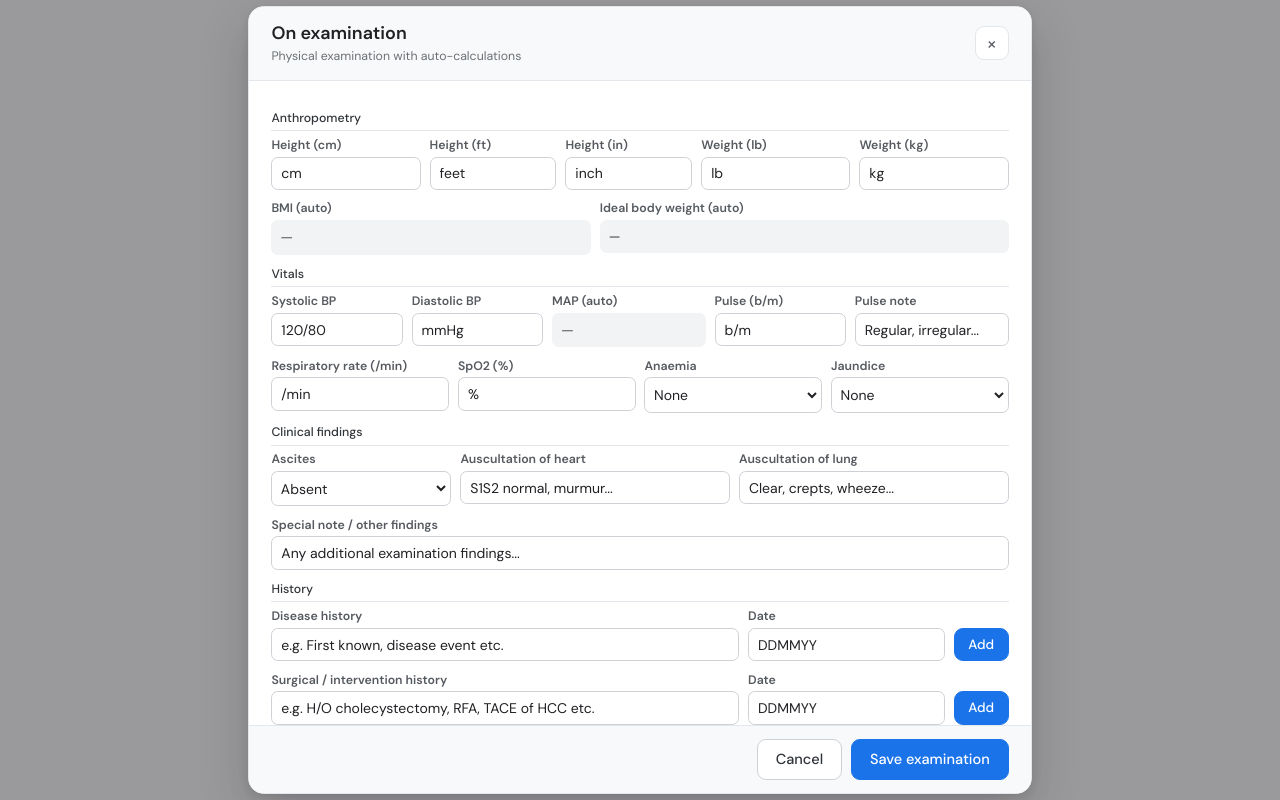
it: On examination — dated history entries › a date it cannot read writes nothing and says why
Type "H/O ERCP" into the field named "Disease history" at [505, 645], box [271,628,739,661]
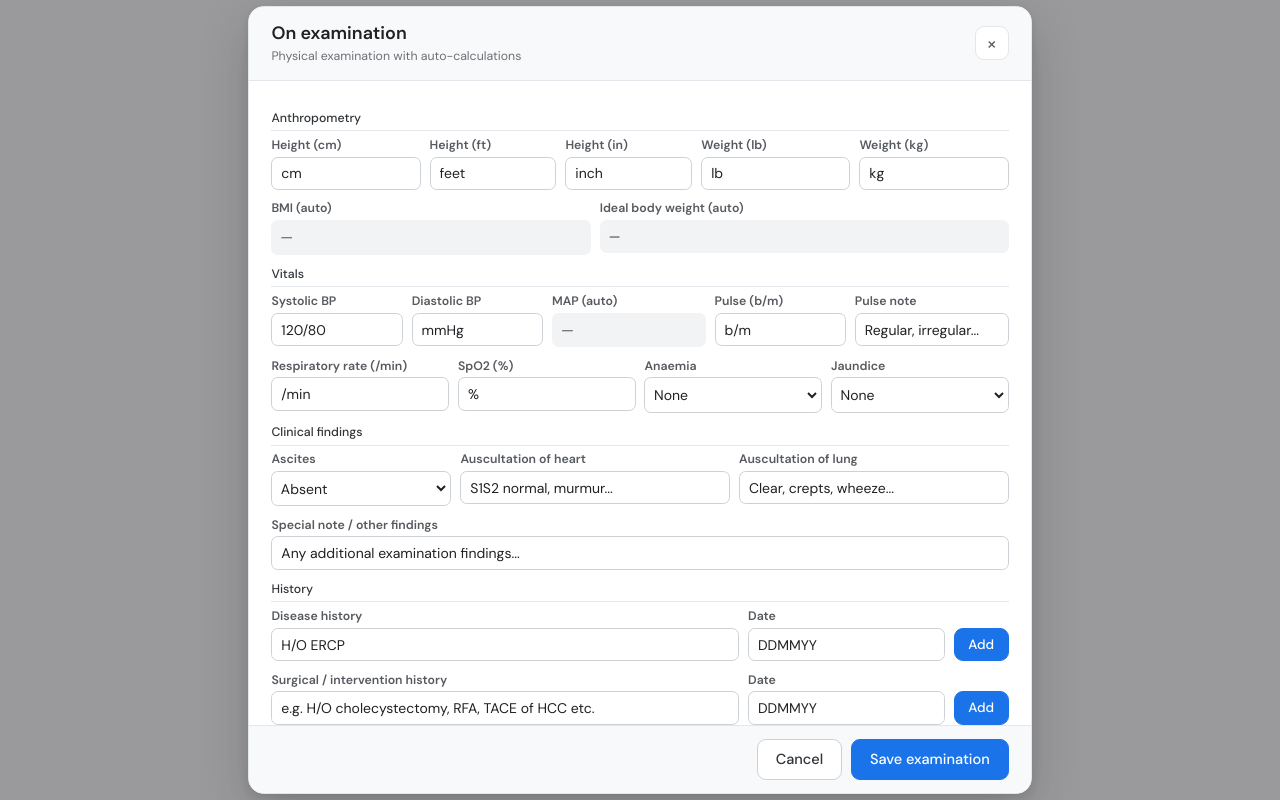
Type "99" into the field named "Disease history date" at [846, 645], box [748,628,945,661]
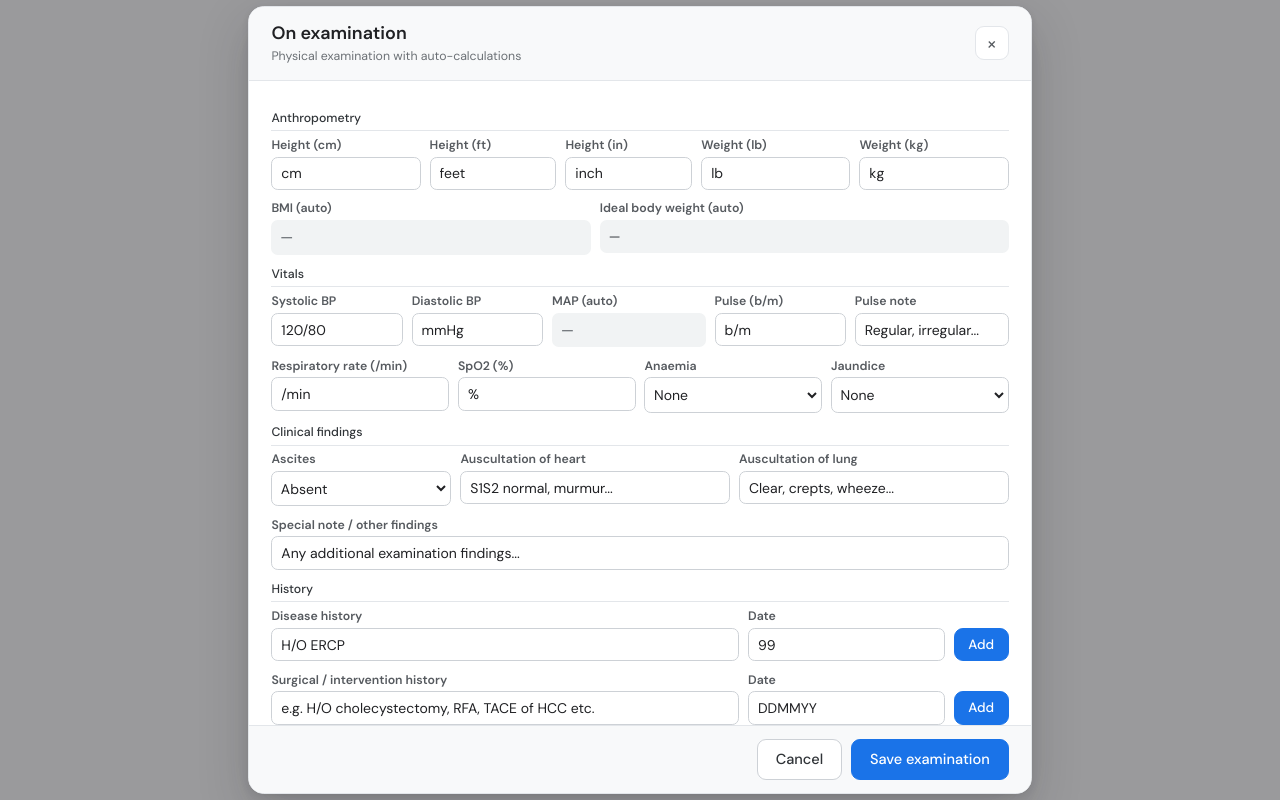
Click the button with aria-label "Add disease history" at [981, 645], box [954,628,1009,661]
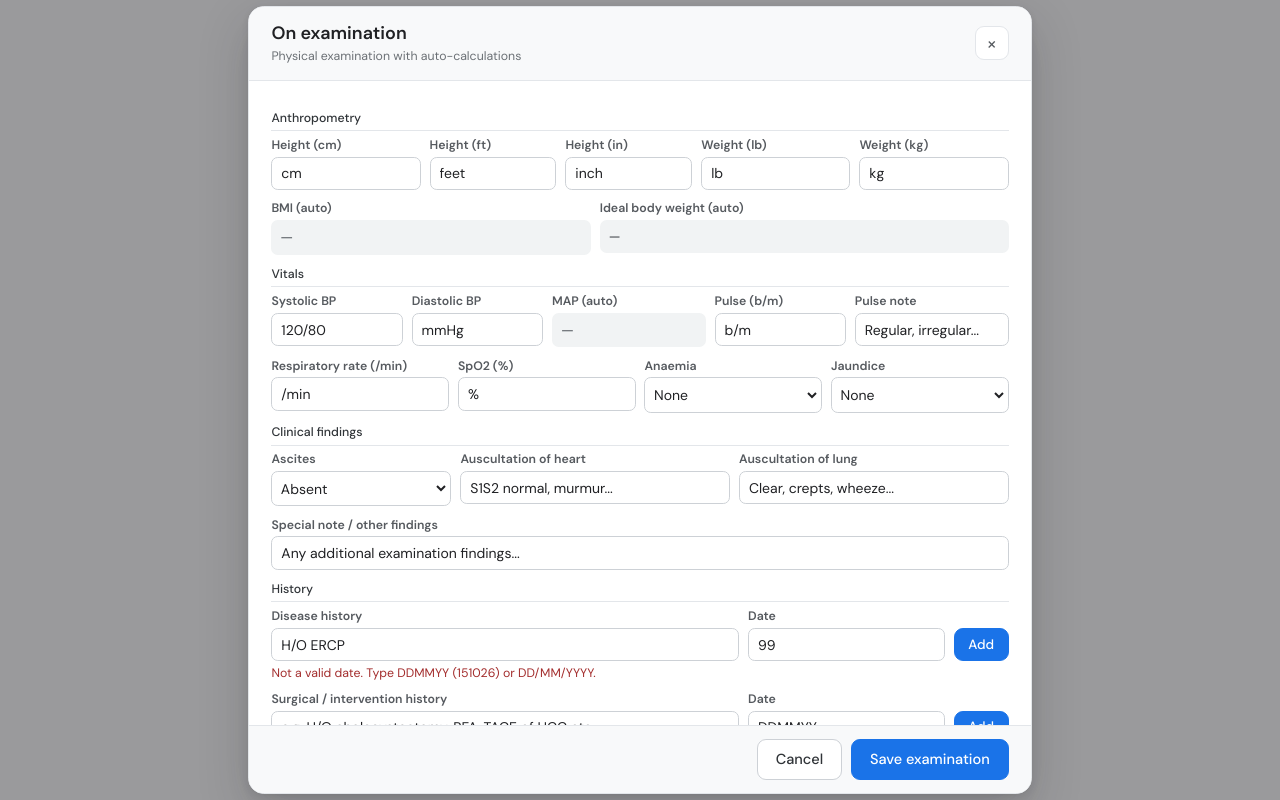
Expected: the text "Not a valid date. Type DDMMYY (151026) or DD/MM/YYYY." is shown, [271,665,596,681]
